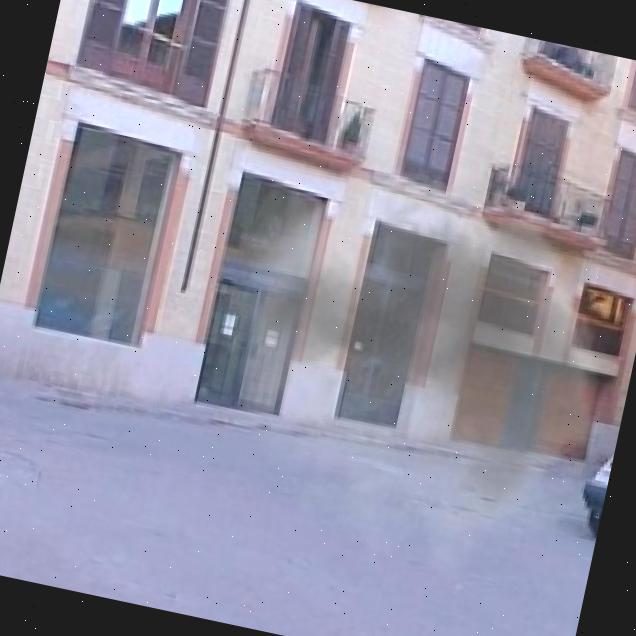smoke: (179, 119, 636, 615)
